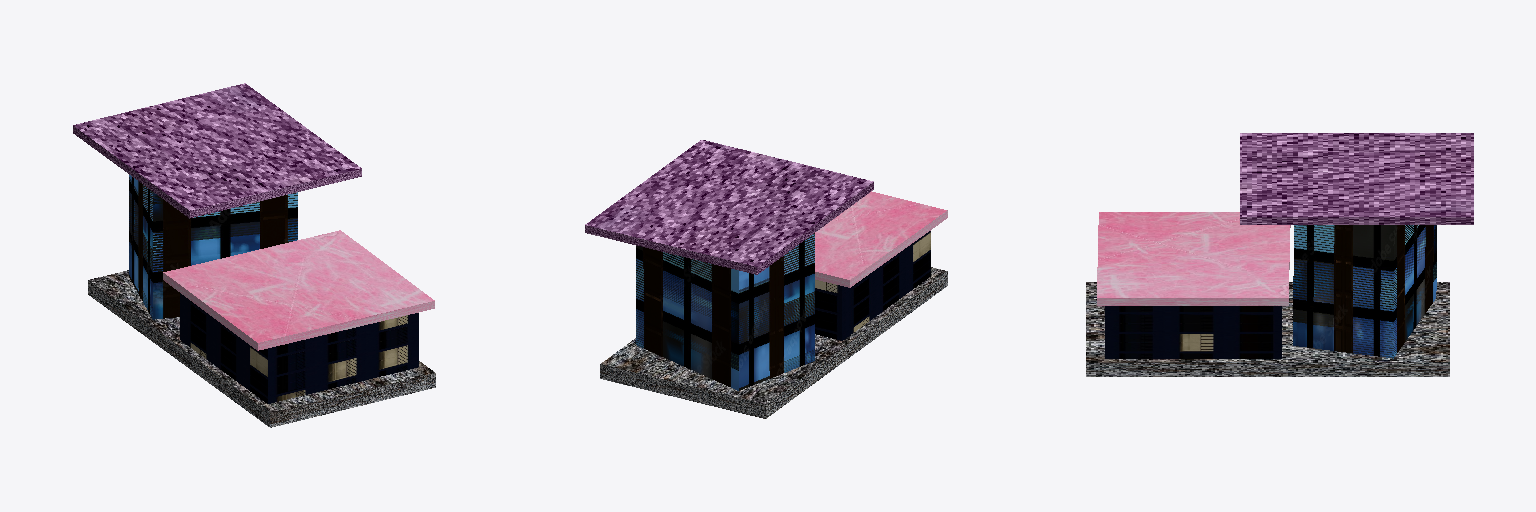
3 views of the same model, side by side, from view 1: azimuth 30°, elevation 25°; view 2: azimuth 150°, elevation 25°; view 3: azimuth 270°, elevation 25° (orthographic).
Parts seen in each view (by area): view 1: Cube.004, Cube.003, Cube, Cube.002, Cube.001; view 2: Cube.004, Cube.002, Cube.001, Cube.003, Cube; view 3: Cube.004, Cube.003, Cube.002, Cube.001, Cube.
Boxes of the visible parts, box(x1,y1,x2,y2) form: Cube.004: box(73, 83, 361, 218); Cube.003: box(163, 230, 434, 350); Cube: box(180, 293, 418, 403); Cube.002: box(129, 175, 297, 319); Cube.001: box(88, 270, 435, 427); Cube.004: box(585, 140, 873, 274); Cube.002: box(636, 233, 814, 390); Cube.001: box(600, 267, 947, 418); Cube.003: box(815, 191, 947, 287); Cube: box(815, 231, 930, 340); Cube.004: box(1240, 133, 1473, 224); Cube.003: box(1097, 212, 1290, 305); Cube.002: box(1293, 225, 1436, 358); Cube.001: box(1086, 282, 1449, 376); Cube: box(1105, 306, 1281, 358).
Size of the model in its own units: 9.53 by 8.28 by 17.98.
5 materials, 5 textured.